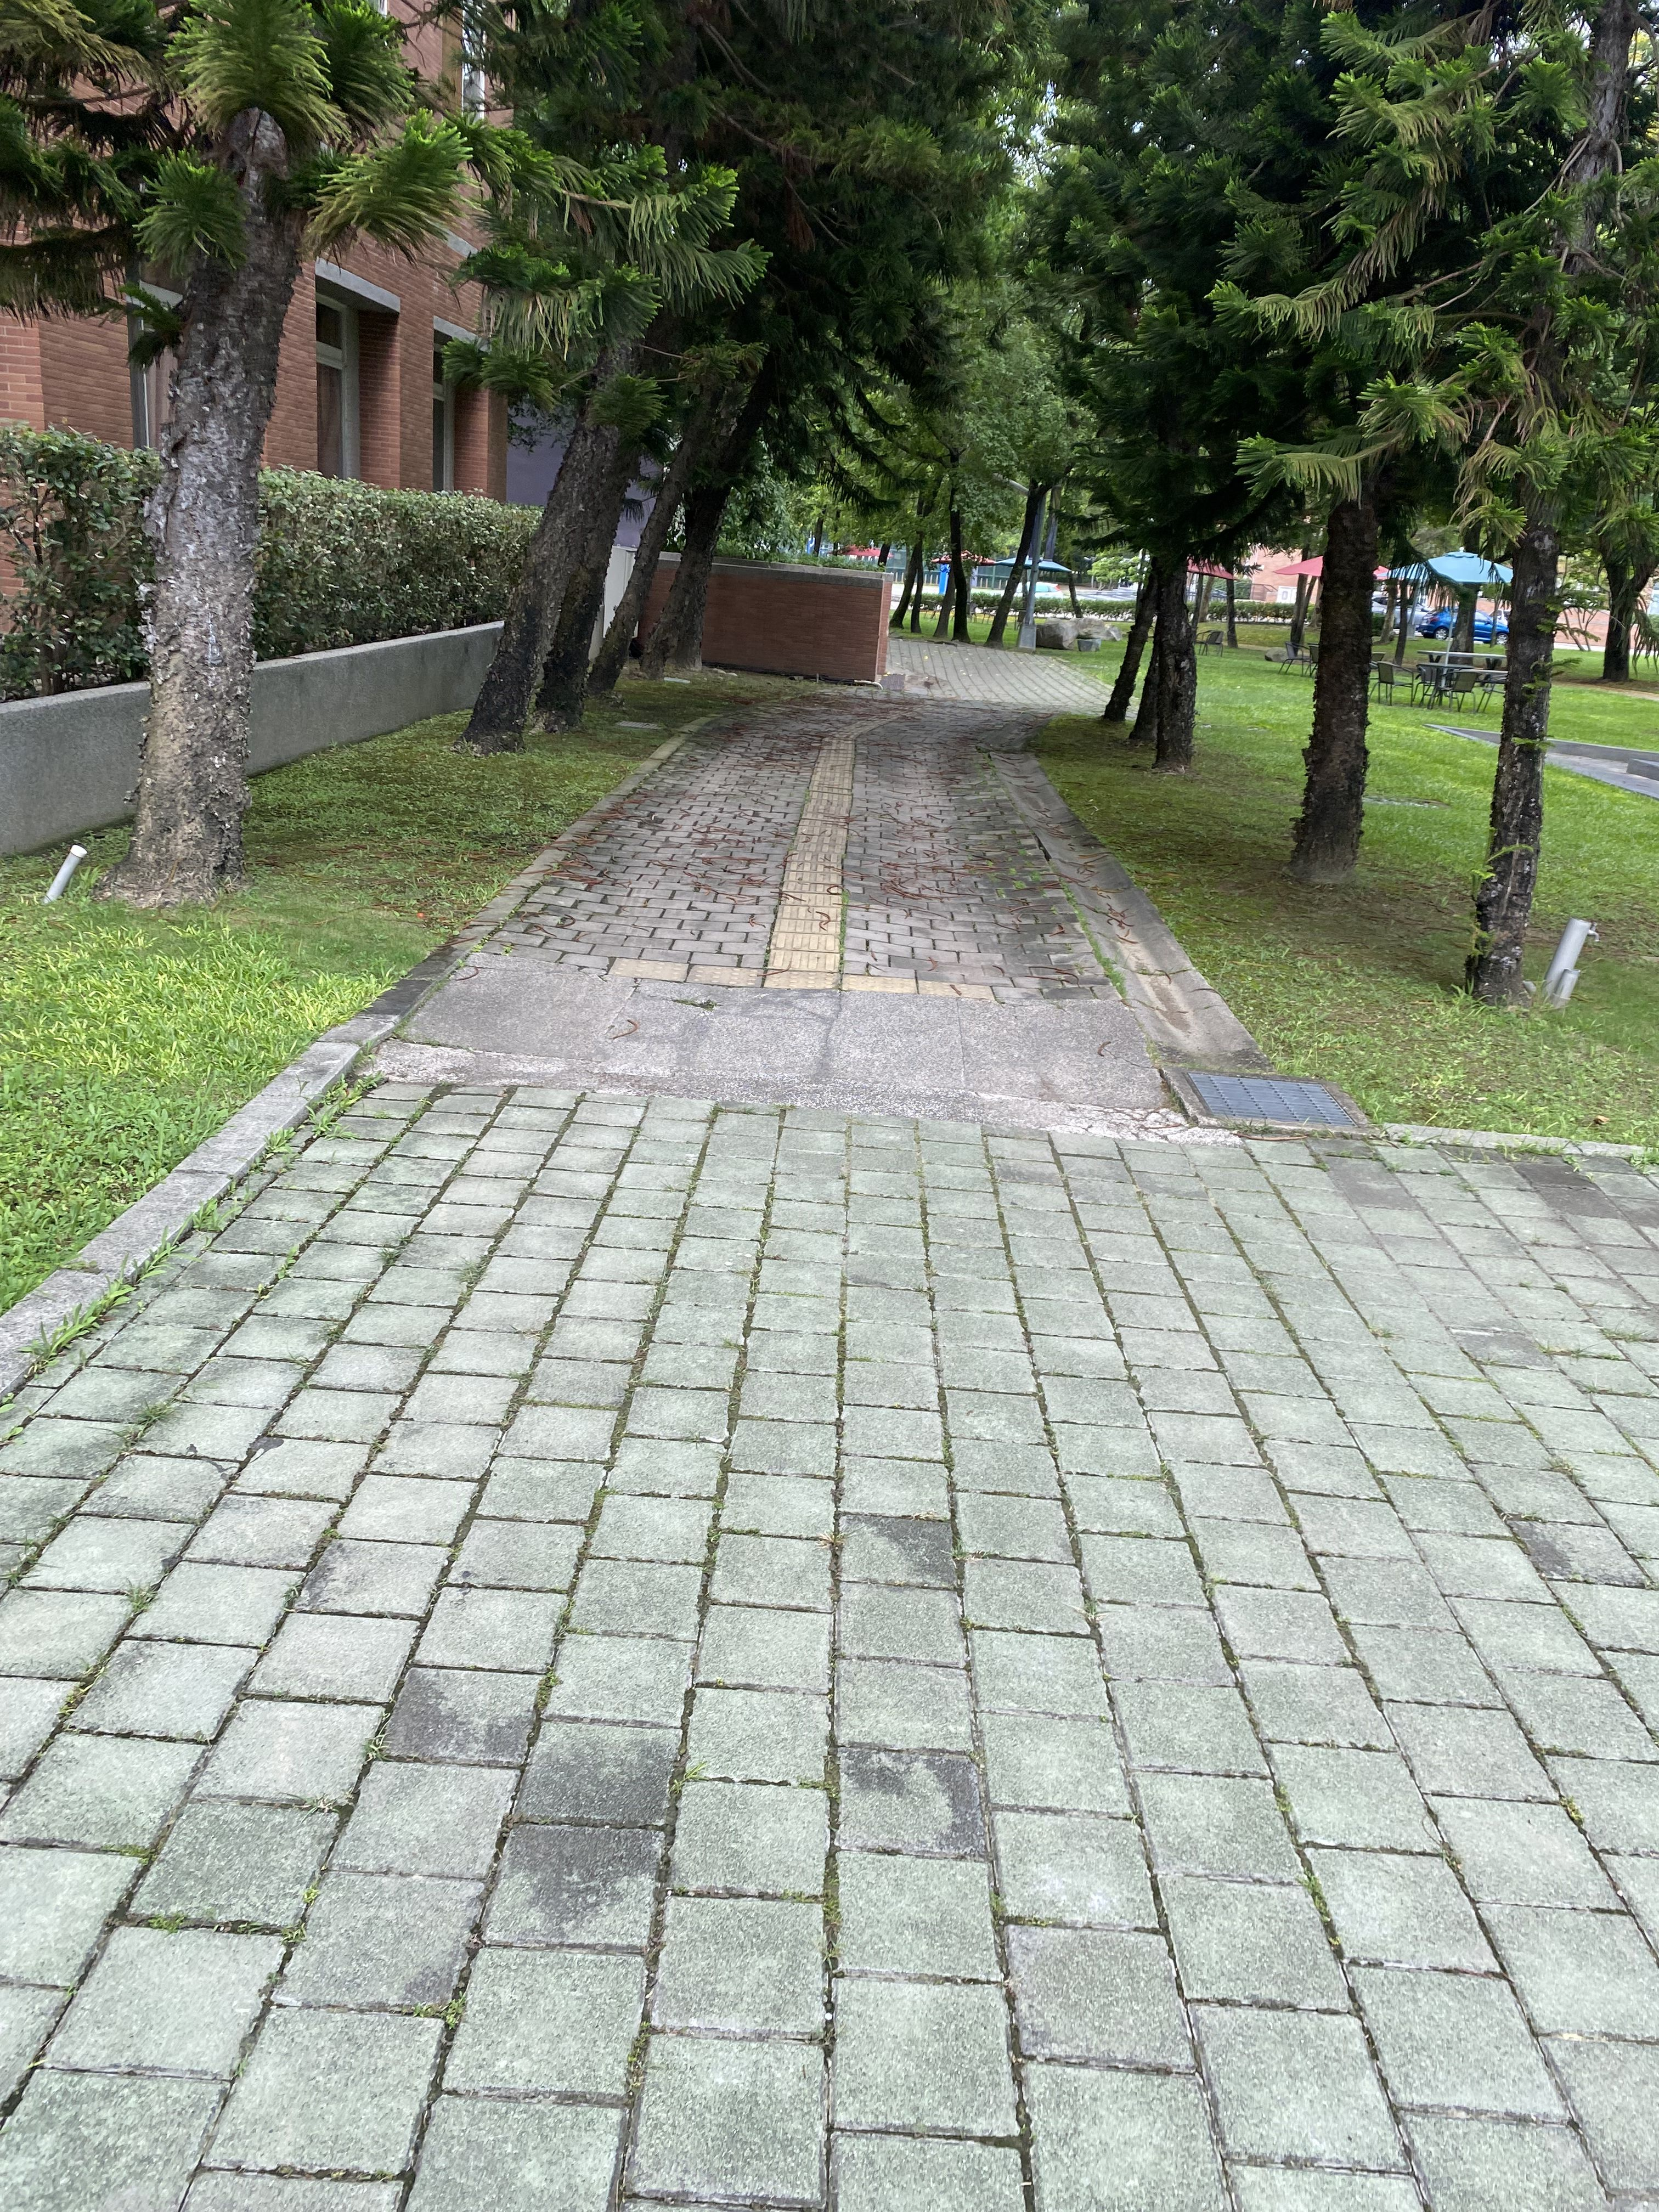sidewalk: (298, 552, 1398, 2212)
